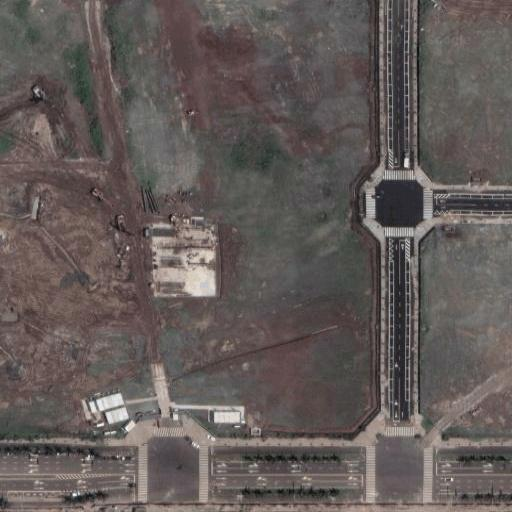building: (96, 392, 124, 411), (212, 411, 242, 426), (105, 409, 129, 425)
